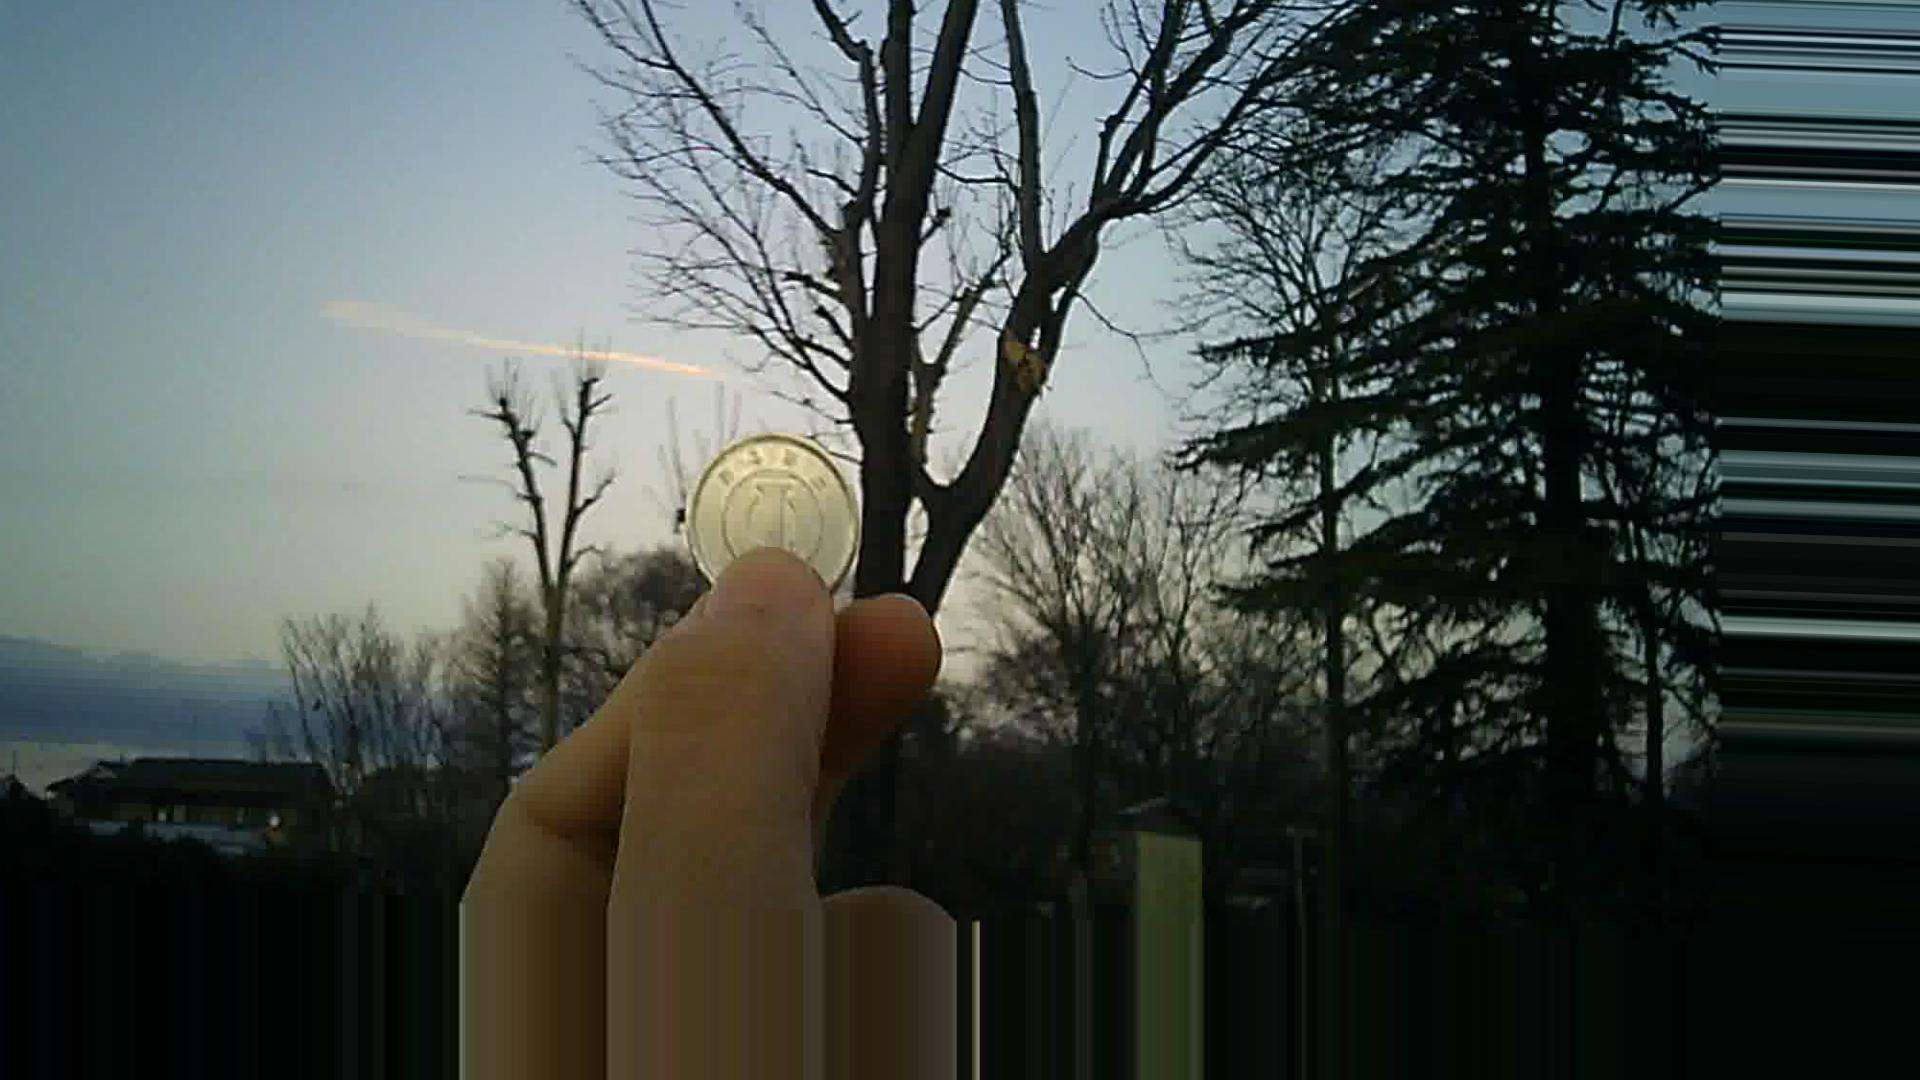1 Yen: (680, 425, 855, 607)
